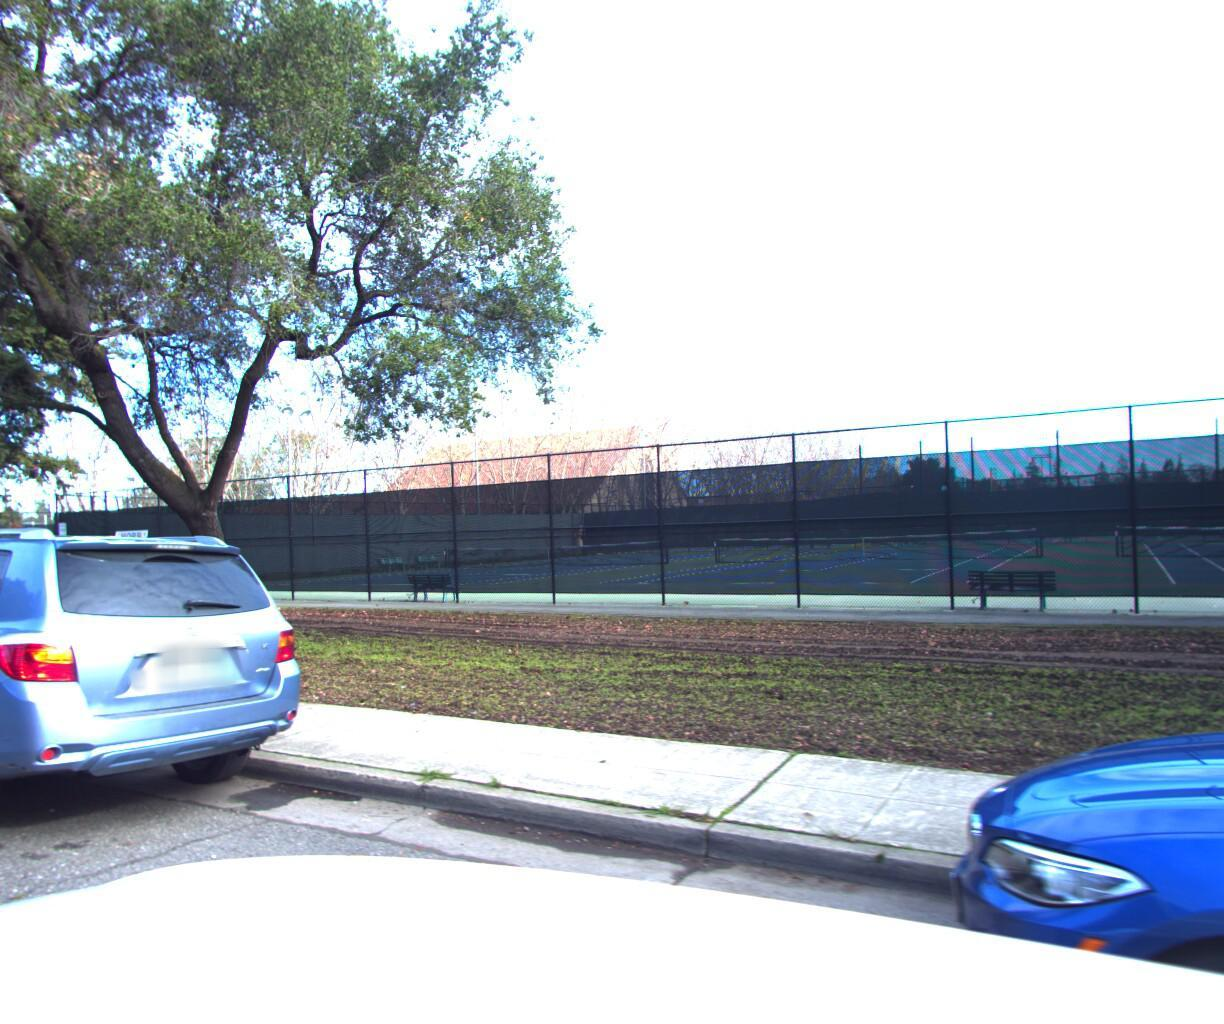car: (0, 503, 336, 921)
